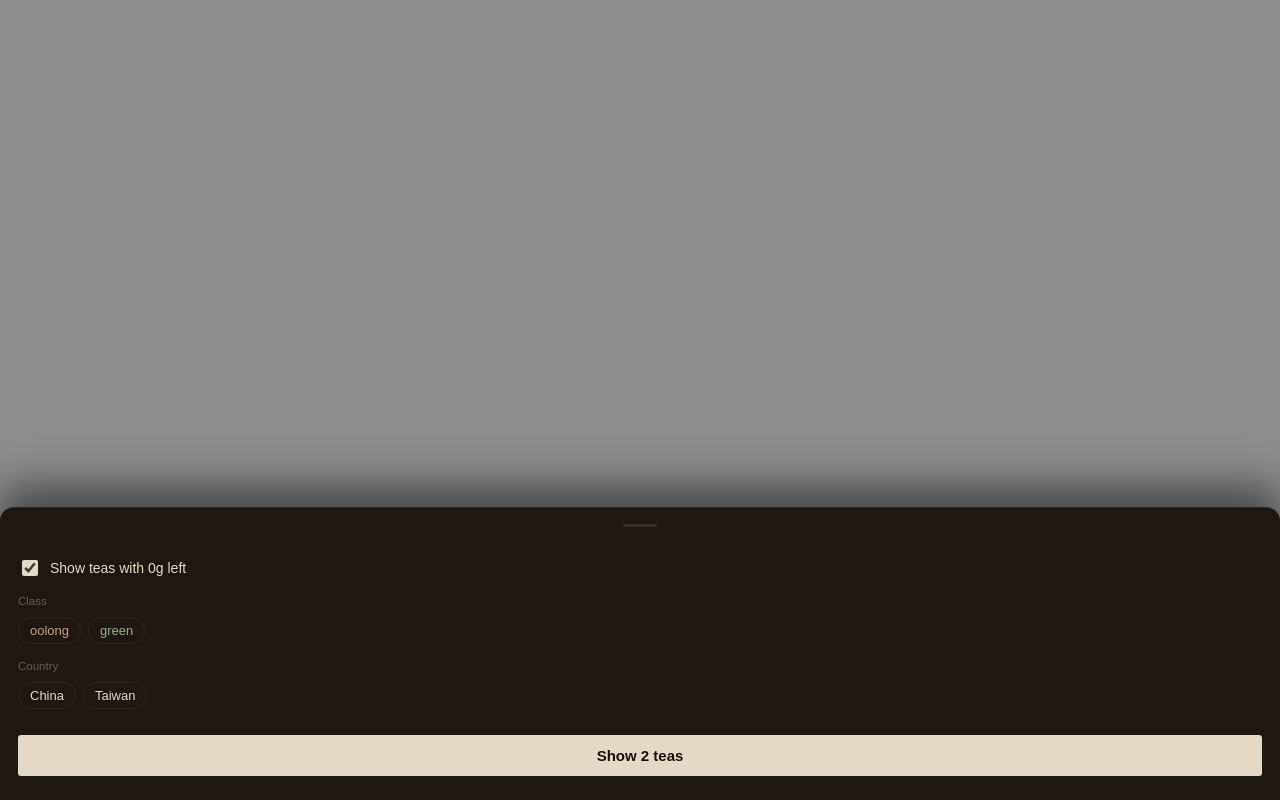
Scenario: CabinetFilters › opens the next tier with only the kinds actually owned
The width and height of the screenshot is (1280, 800).
Click the button with test id "filter-node-oolong".
click(50, 630)  # box [18,617,81,644]
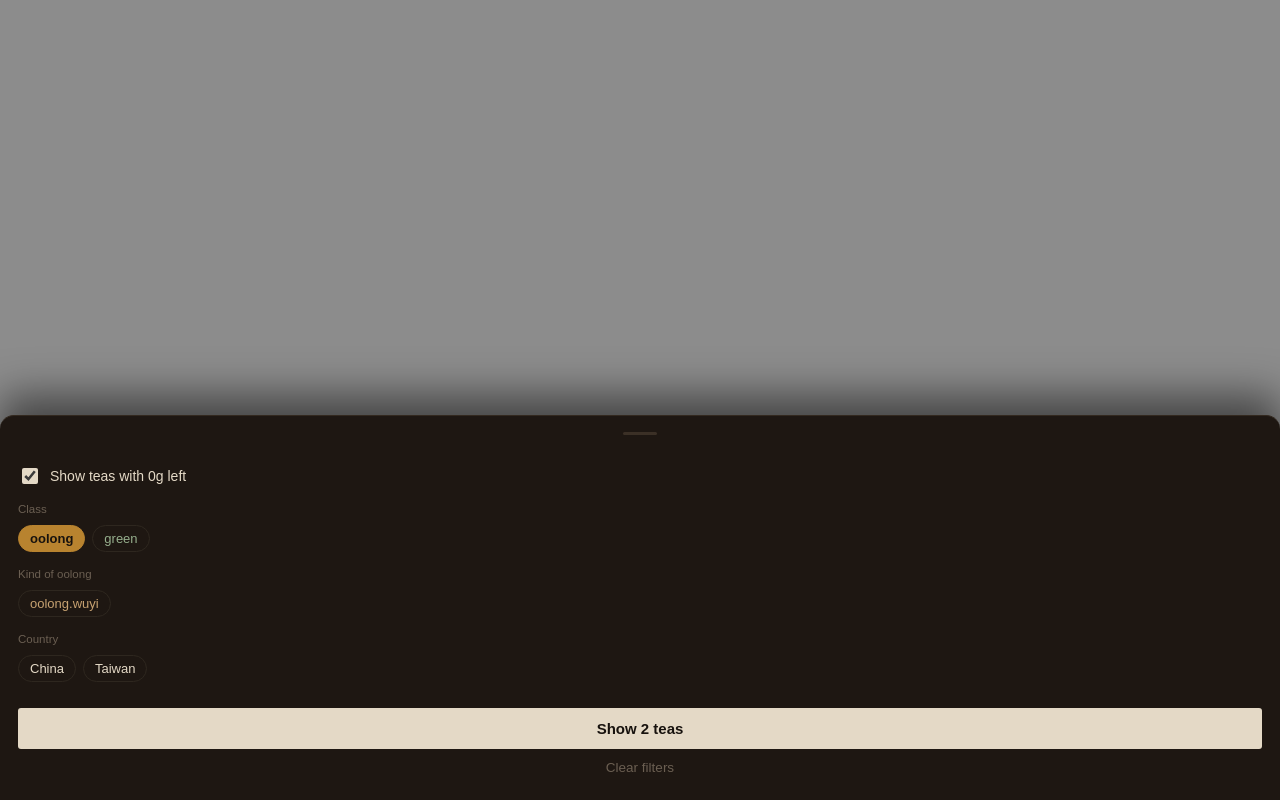
Check: the button with test id "filter-node-oolong" reads "oolong", box [18,525,85,552]
Check: the number of elements with test id "filter-tier" is 2, box [18,503,150,552]; [18,568,111,617]
Check: the button with test id "filter-node-oolong.wuyi" is shown, box [18,590,111,617]
